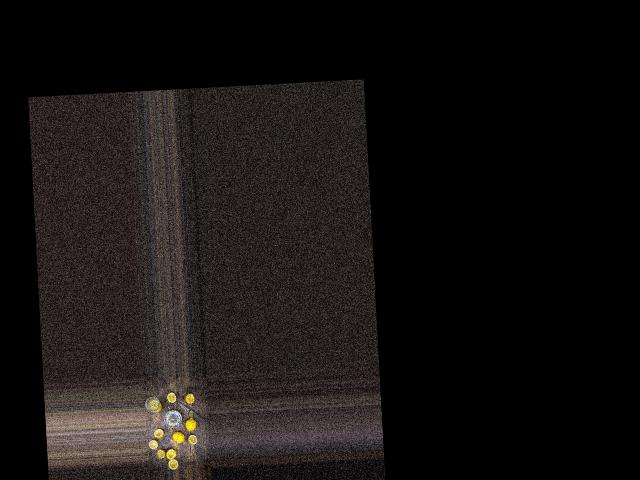lemon: (183, 418, 196, 435)
